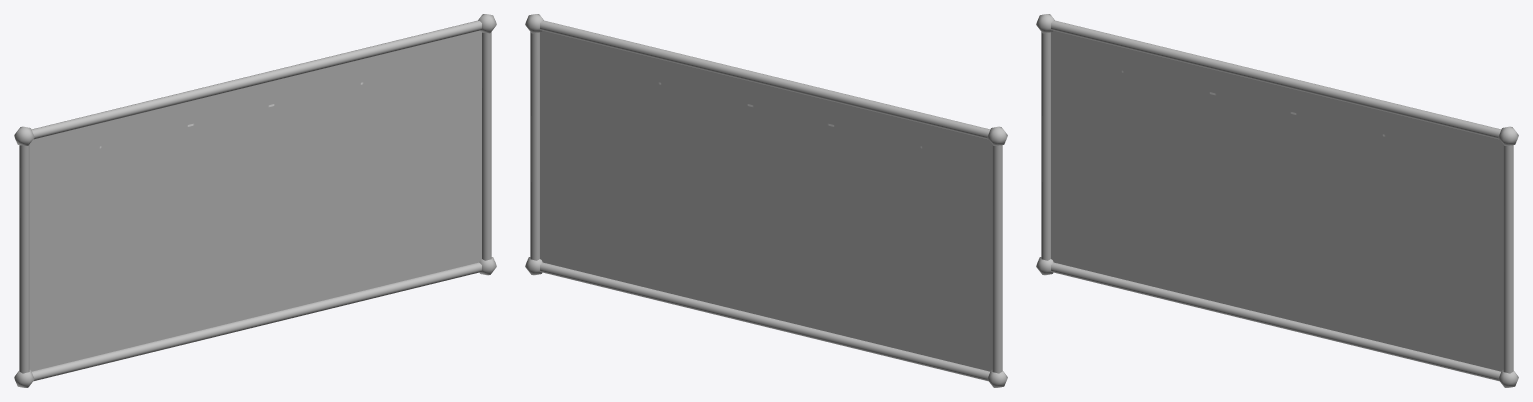
The model's file is Full Fence.FBX.
3 renders of one model, left to right at view 1: azimuth 30°, elevation 25°; view 2: azimuth 150°, elevation 25°; view 3: azimuth 330°, elevation 25°, orthographic.
Parts seen in each view (by area): view 1: Plane001, Plane002; view 2: Plane001, Plane002; view 3: Plane001, Plane002.
Boxes of the visible parts, left/top/right/bottom form: Plane001: left=29, top=30, right=481, bottom=371; Plane002: left=14, top=14, right=496, bottom=387; Plane001: left=540, top=30, right=992, bottom=371; Plane002: left=525, top=14, right=1007, bottom=387; Plane001: left=1051, top=30, right=1503, bottom=371; Plane002: left=1036, top=14, right=1518, bottom=387.
Bounding box in the file's own units: 164 × 85.04 × 6.3.
Materials: 2 (2 with a texture image).
